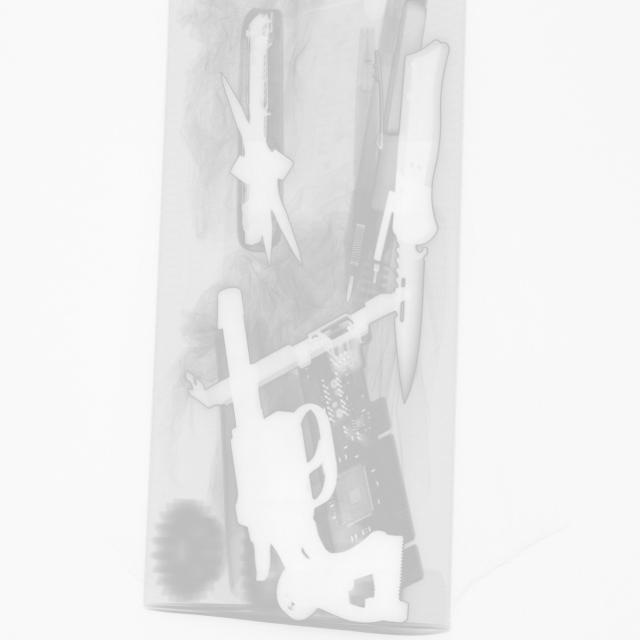knife: (391, 39, 452, 404)
pistol: (216, 288, 409, 623)
